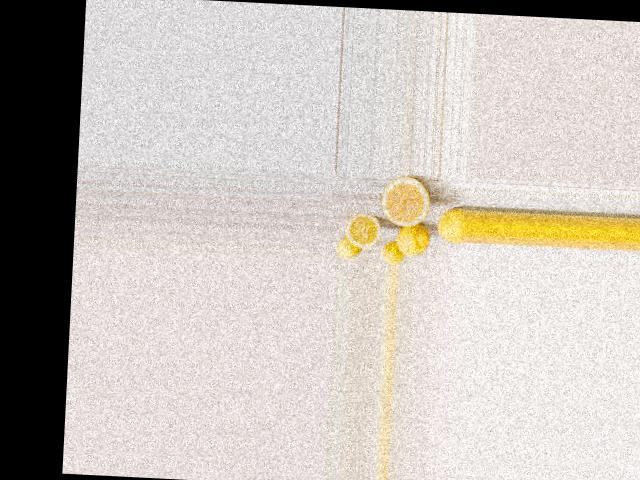lemon: (433, 203, 465, 245)
